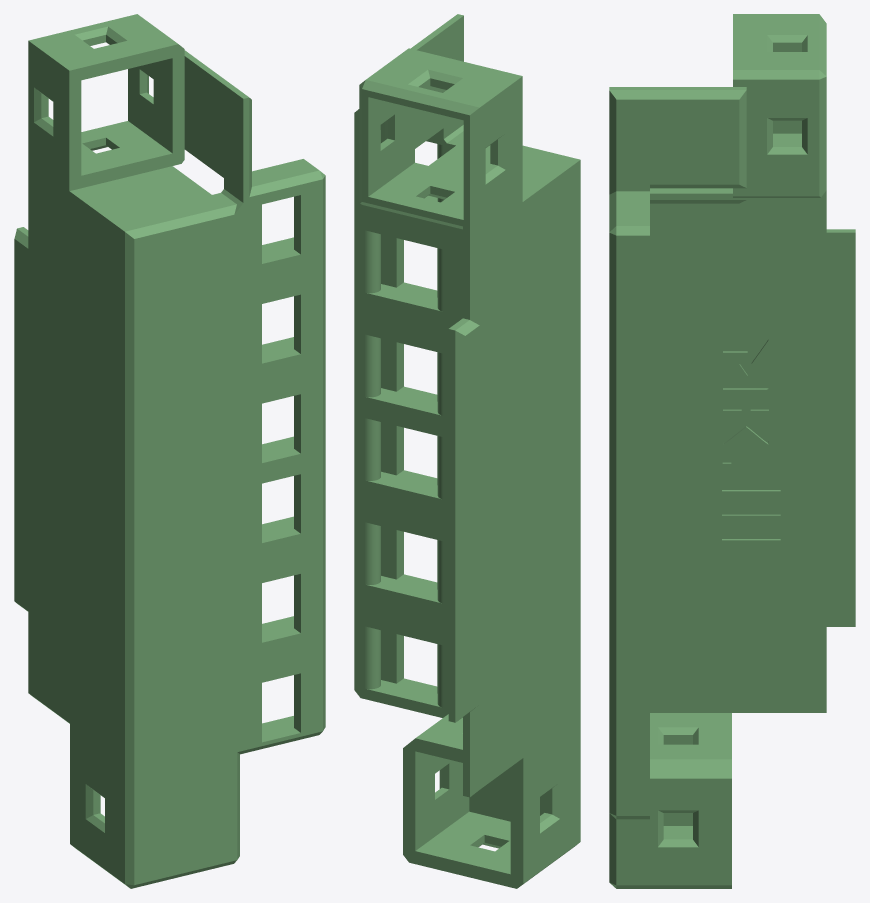
File: other-homeracker-pi5-case-9.glb
The picture shows the model from 3 angles, left to right: view 1: azimuth 30°, elevation 25°; view 2: azimuth 150°, elevation 25°; view 3: azimuth 270°, elevation 25°; orthographic projection. The views are drawn at different scales.
Parts seen in each view (by area): view 1: HomeRacker+-+Pi5+Case.3mf; view 2: HomeRacker+-+Pi5+Case.3mf; view 3: HomeRacker+-+Pi5+Case.3mf.
Boxes of the visible parts, left/top/right/bottom form: HomeRacker+-+Pi5+Case.3mf: left=14, top=14, right=325, bottom=888; HomeRacker+-+Pi5+Case.3mf: left=354, top=14, right=580, bottom=888; HomeRacker+-+Pi5+Case.3mf: left=609, top=14, right=855, bottom=888.
Bounding box in the file's own units: 33.47 × 124 × 33.9.
